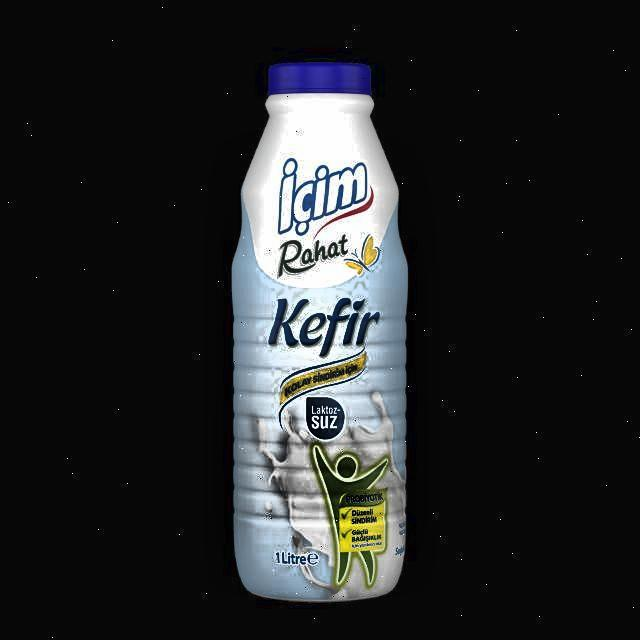plastic: (230, 60, 409, 607)
